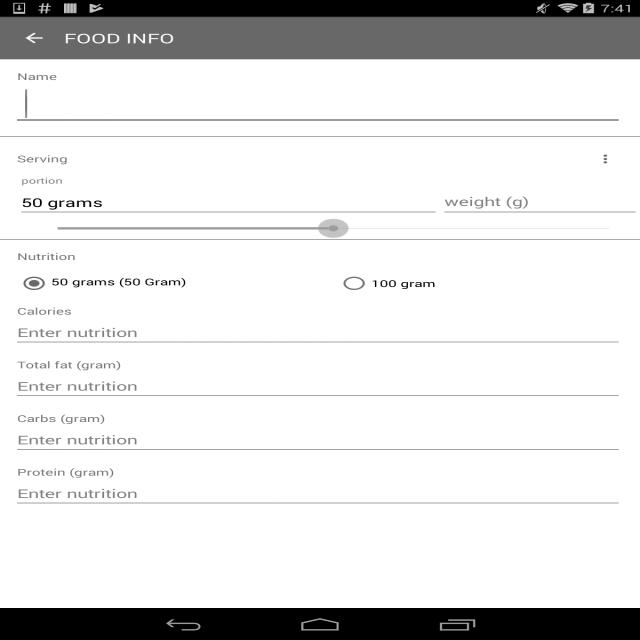EditText: (13, 83, 623, 125), (13, 317, 623, 348), (13, 478, 623, 509), (13, 371, 623, 401), (13, 425, 623, 455), (17, 187, 440, 218), (440, 187, 640, 218)
ImageButton: (0, 19, 60, 57)
ImageView: (588, 152, 622, 166)
RadioButton: (17, 273, 320, 294), (337, 273, 640, 294)
SeekBar: (41, 218, 626, 239)
TextView: (17, 70, 623, 83), (17, 358, 623, 371), (17, 412, 623, 425), (17, 250, 623, 262), (17, 305, 623, 317), (17, 466, 623, 478), (17, 152, 554, 165), (64, 29, 174, 47)
